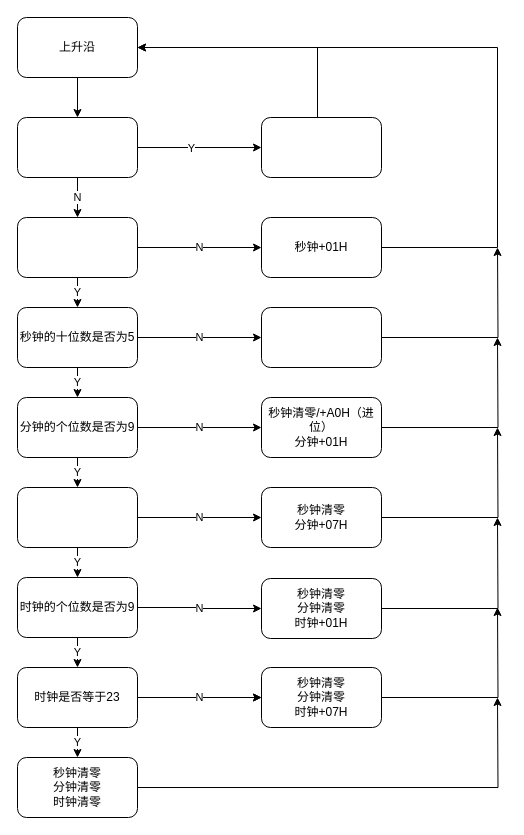
The diagram is 524 pixels wide and 835 high, and some of its shapes have lost their labels. The shapes that lost their labels are listed below. From the top down, each one's centre as x and y in pixels, then its label:
At (x=77, y=147): "是否复位".
At (x=321, y=147): "时钟清零 分钟清零 秒钟清零".
At (x=77, y=247): "秒钟的个位是否为9".
At (x=321, y=337): "秒钟+07H".
At (x=77, y=517): "分钟的十位数是否为5".
